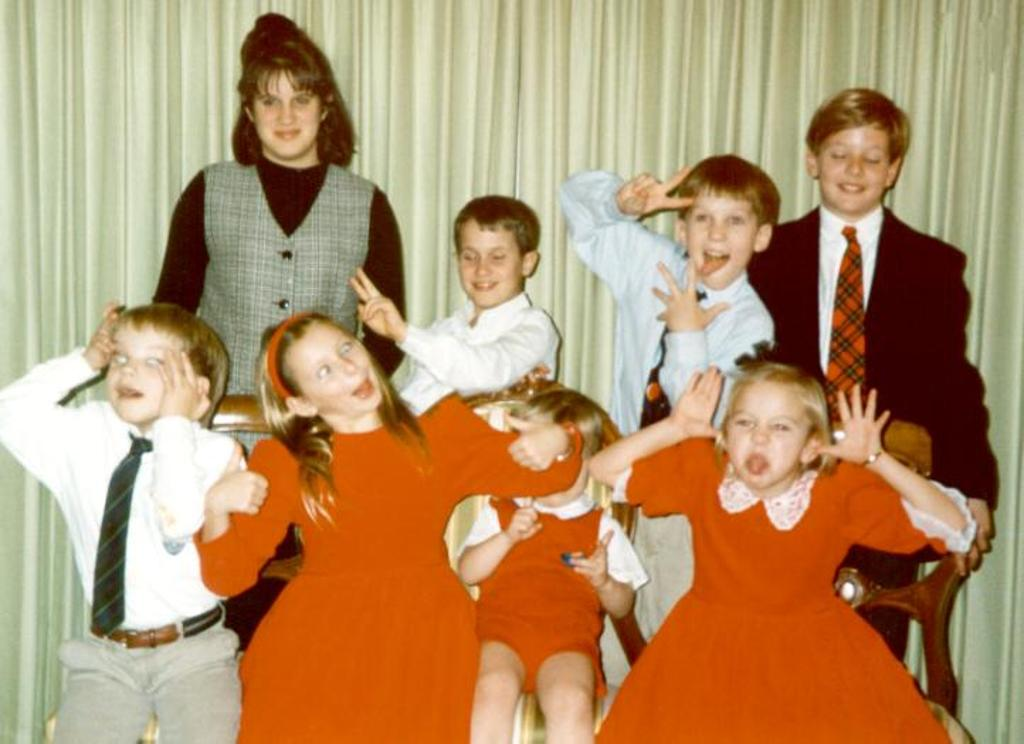face: (282, 326, 388, 410), (726, 390, 802, 490), (104, 320, 176, 420), (684, 190, 754, 292), (820, 116, 892, 214), (254, 66, 320, 158), (456, 220, 518, 308), (529, 430, 589, 508)
